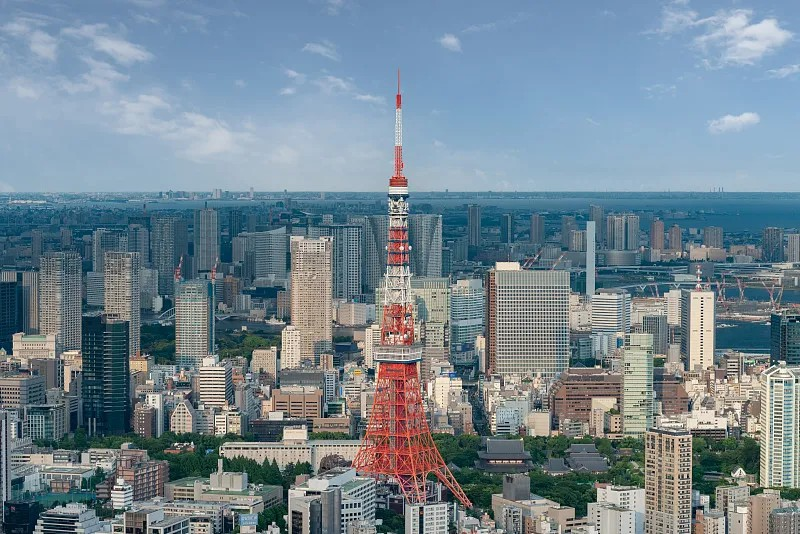Tokyo: (352, 66, 476, 511)
